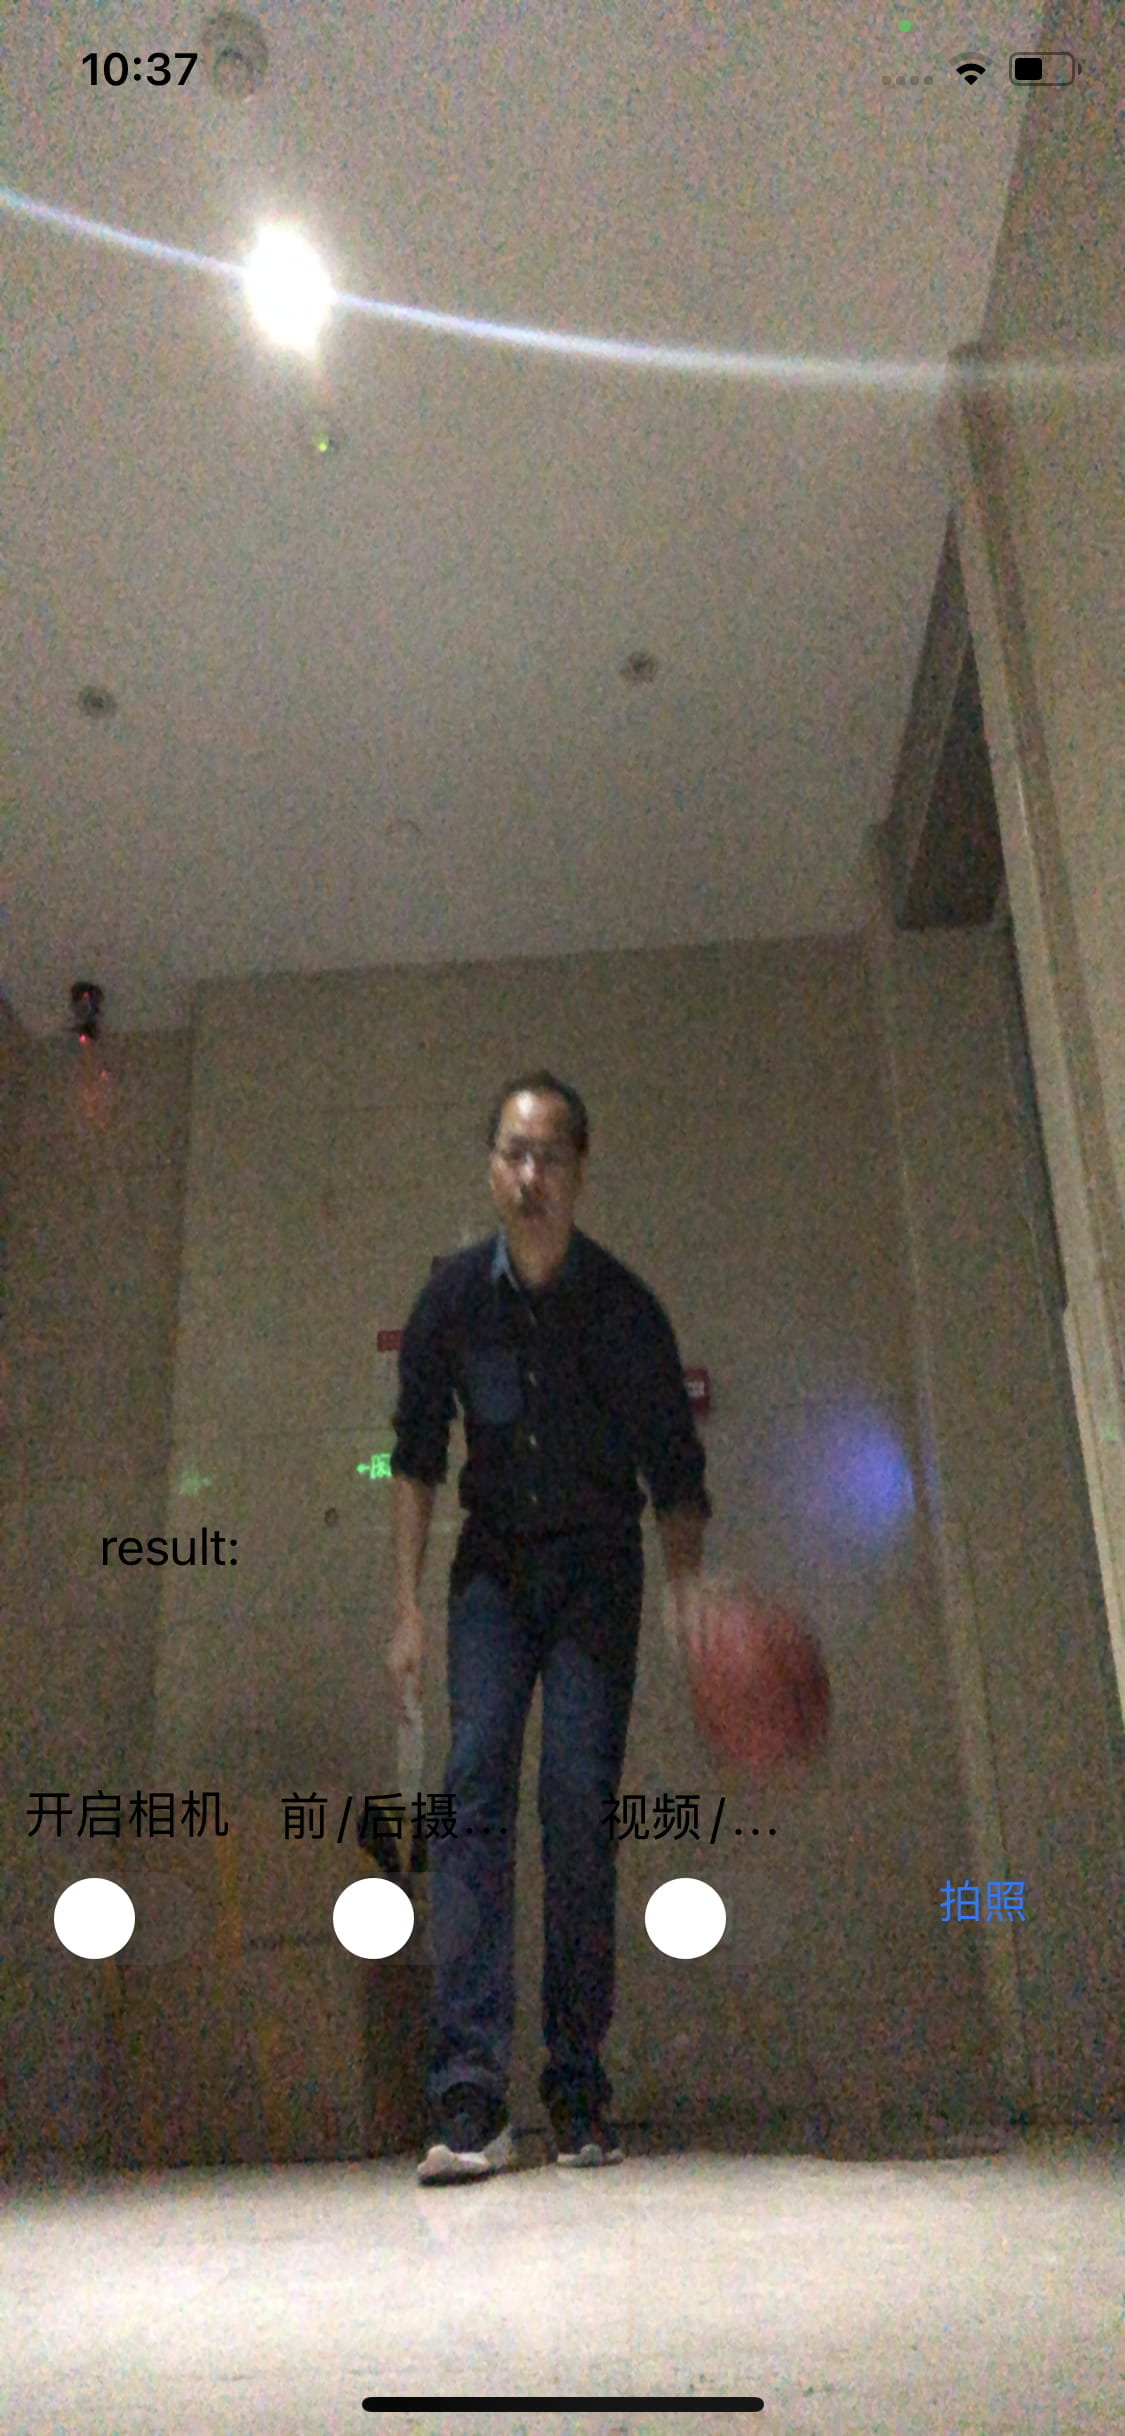ball: (681, 1613, 844, 1780)
